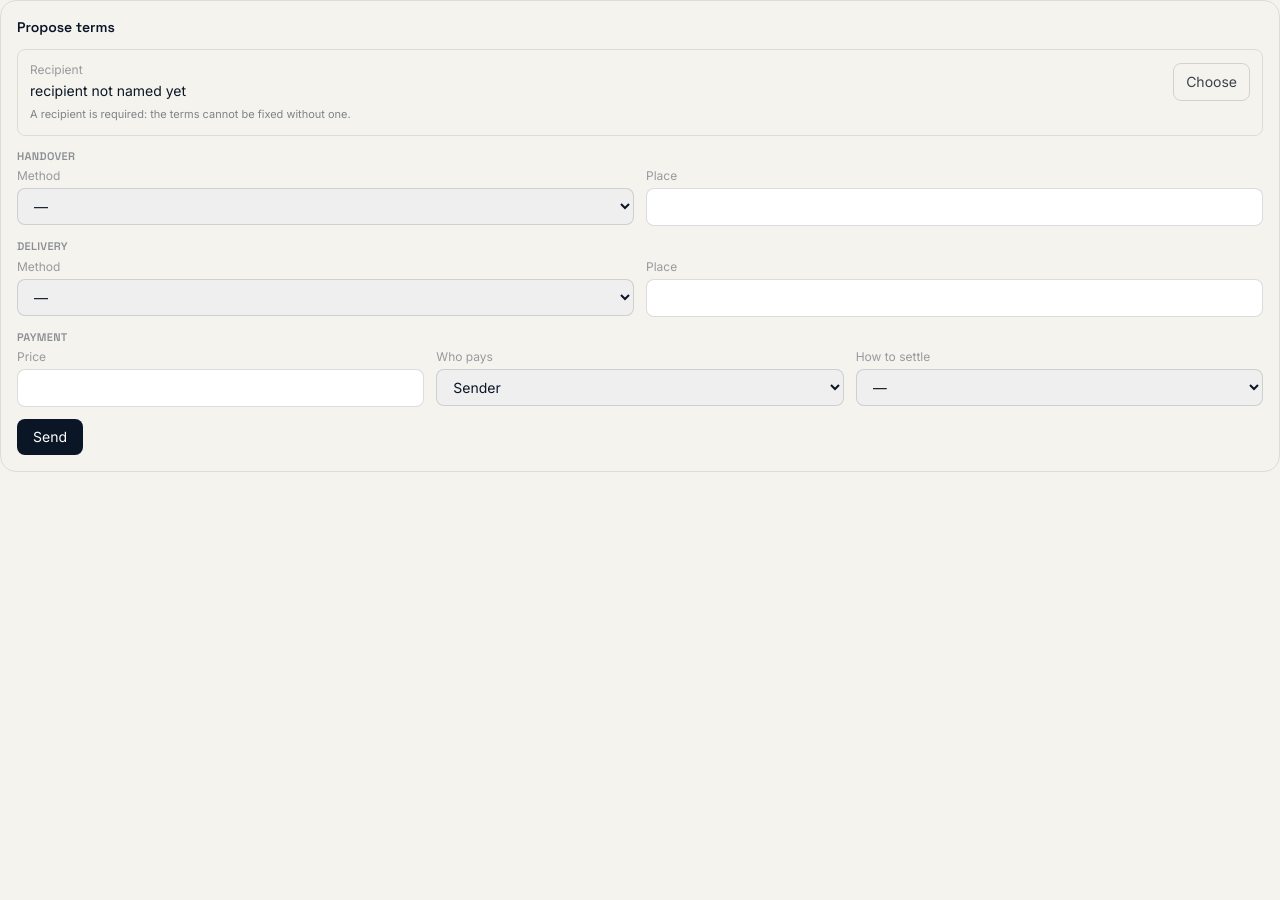
Scenario: TermsProposeForm › shows the proposal before it sends it
Type "120" into the number field at (221, 388), box [17,369,424,407]
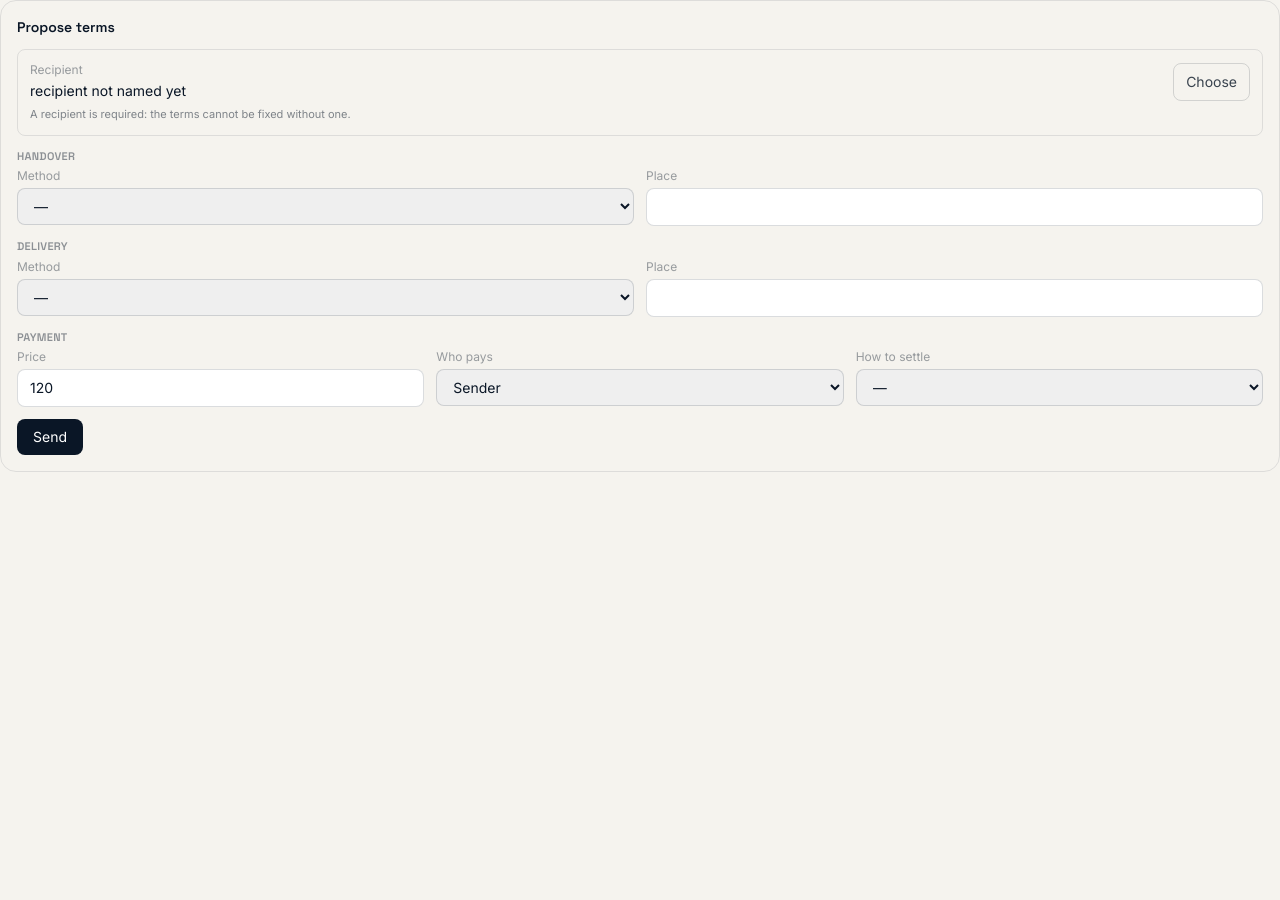
Select "Cash on delivery" in the dropdown labelled "How to settle" at (1059, 388), box [856,369,1263,406]
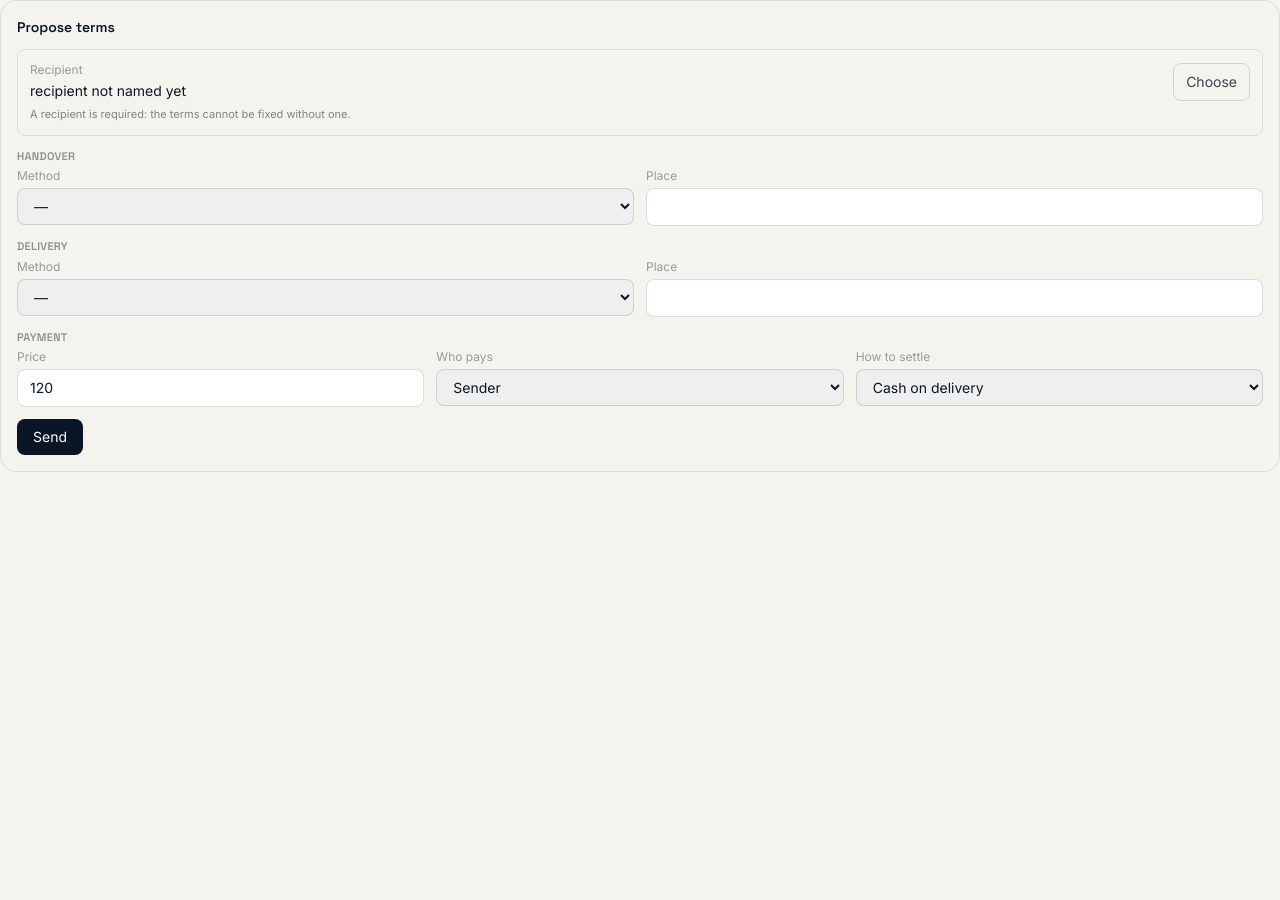
Click the button "Send" at (50, 437), box [17,419,83,455]
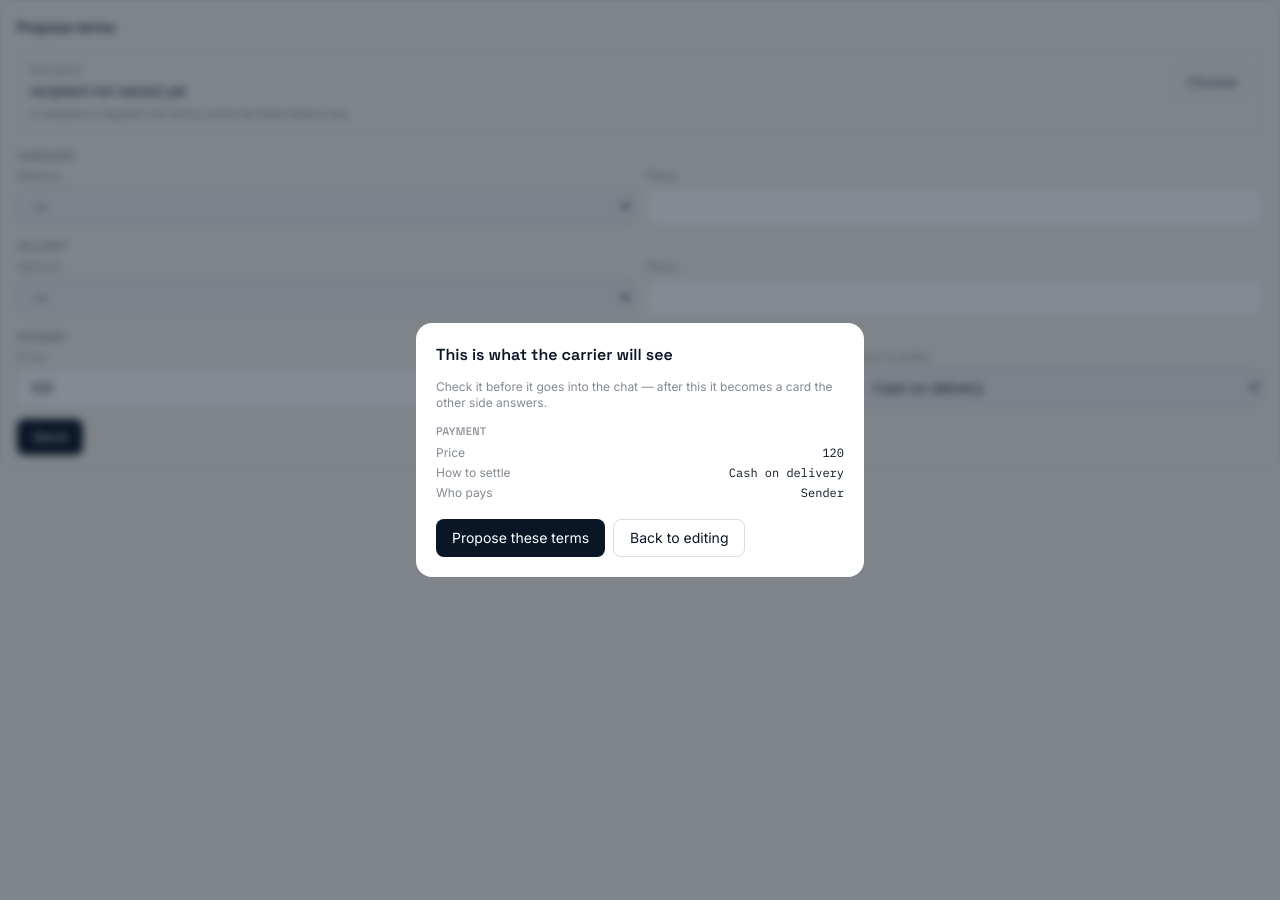
Check: the heading "This is what the carrier will see" is shown, box [436,344,673,365]
